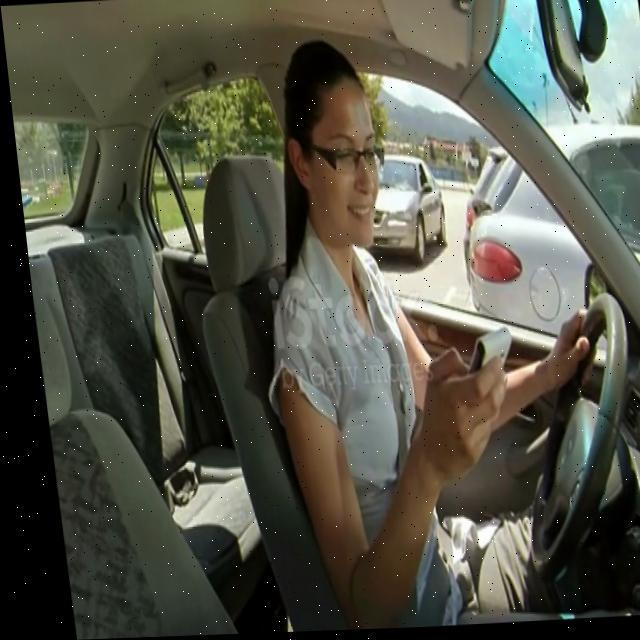PhoneCall: (450, 330, 510, 402)
